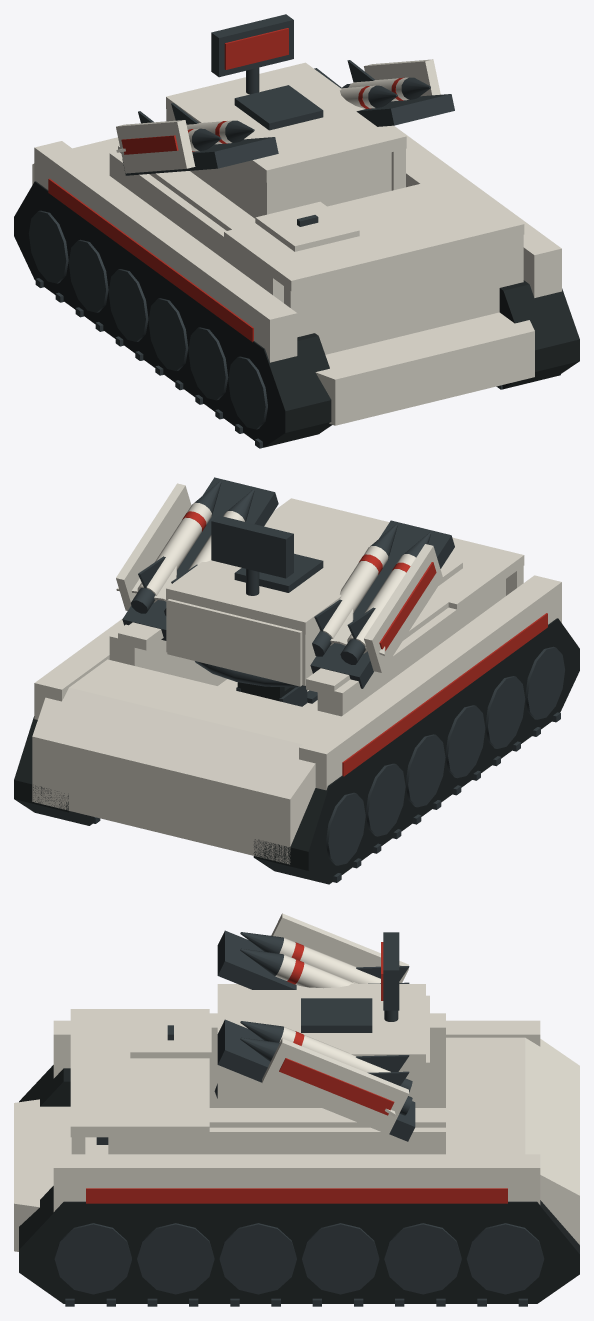
3 views of the same model, one above another, from view 1: azimuth 30°, elevation 25°; view 2: azimuth 150°, elevation 25°; view 3: azimuth 270°, elevation 25° (orthographic). The views are drawn at different scales.
Parts seen in each view (by area): view 1: aa-tank-fleet-armor, aa-tank-fleet-rubber, turret-fleet-armor, aa-tank-fleet-machine, aa-tank-fleet-red, turret-fleet-machine, launcher-left-fleet-armor, radar-fleet-machine, launcher-left-fleet-machine, launcher-right-fleet-machine, radar-fleet-red, launcher-right-fleet-armor (+4 smaller); view 2: aa-tank-fleet-armor, turret-fleet-armor, aa-tank-fleet-rubber, aa-tank-fleet-machine, radar-fleet-machine, launcher-left-fleet-machine, aa-tank-fleet-red, launcher-left-fleet-armor, launcher-right-fleet-machine, launcher-right-fleet-armor, loaded-missile-1-0.2-fleet-armor, loaded-missile--1-0.2-fleet-armor (+7 smaller); view 3: aa-tank-fleet-armor, aa-tank-fleet-rubber, aa-tank-fleet-machine, turret-fleet-armor, aa-tank-fleet-red, launcher-right-fleet-armor, turret-fleet-machine, launcher-right-fleet-machine, launcher-left-fleet-armor, launcher-left-fleet-machine, launcher-right-fleet-red, loaded-missile--1--0.2-fleet-armor (+7 smaller).
Boxes of the visible parts, x1,y1,x2,y2 form: aa-tank-fleet-armor: (32, 86, 561, 425); aa-tank-fleet-rubber: (14, 181, 579, 447); turret-fleet-armor: (166, 62, 406, 218); aa-tank-fleet-machine: (28, 210, 560, 448); aa-tank-fleet-red: (48, 178, 253, 342); turret-fleet-machine: (234, 67, 323, 130); launcher-left-fleet-armor: (116, 120, 195, 173); radar-fleet-machine: (211, 14, 293, 77); launcher-left-fleet-machine: (122, 137, 278, 175); launcher-right-fleet-machine: (356, 94, 454, 126); radar-fleet-red: (224, 28, 288, 69); launcher-right-fleet-armor: (364, 59, 440, 96); aa-tank-fleet-armor: (32, 498, 561, 864); turret-fleet-armor: (166, 515, 375, 686); aa-tank-fleet-rubber: (14, 618, 579, 884); aa-tank-fleet-machine: (93, 646, 564, 882); radar-fleet-machine: (211, 515, 293, 578); launcher-left-fleet-machine: (310, 520, 454, 688); aa-tank-fleet-red: (342, 613, 547, 776); launcher-left-fleet-armor: (364, 544, 443, 672); launcher-right-fleet-machine: (122, 477, 278, 640); launcher-right-fleet-armor: (116, 483, 191, 610); loaded-missile-1-0.2-fleet-armor: (116, 502, 211, 602); loaded-missile--1-0.2-fleet-armor: (319, 546, 388, 645); aa-tank-fleet-armor: (14, 1009, 579, 1251); aa-tank-fleet-rubber: (19, 1065, 579, 1303); aa-tank-fleet-machine: (54, 1025, 544, 1306); turret-fleet-armor: (217, 984, 429, 1107); aa-tank-fleet-red: (86, 1188, 507, 1203); launcher-right-fleet-armor: (262, 1038, 408, 1134); turret-fleet-machine: (301, 998, 398, 1032); launcher-right-fleet-machine: (217, 1019, 415, 1141); launcher-left-fleet-armor: (271, 913, 408, 982); launcher-left-fleet-machine: (217, 930, 296, 989); launcher-right-fleet-red: (279, 1058, 394, 1115); loaded-missile--1--0.2-fleet-armor: (279, 938, 380, 983).
Size of the model in its own units: 21.39 by 18.35 by 33.68.
